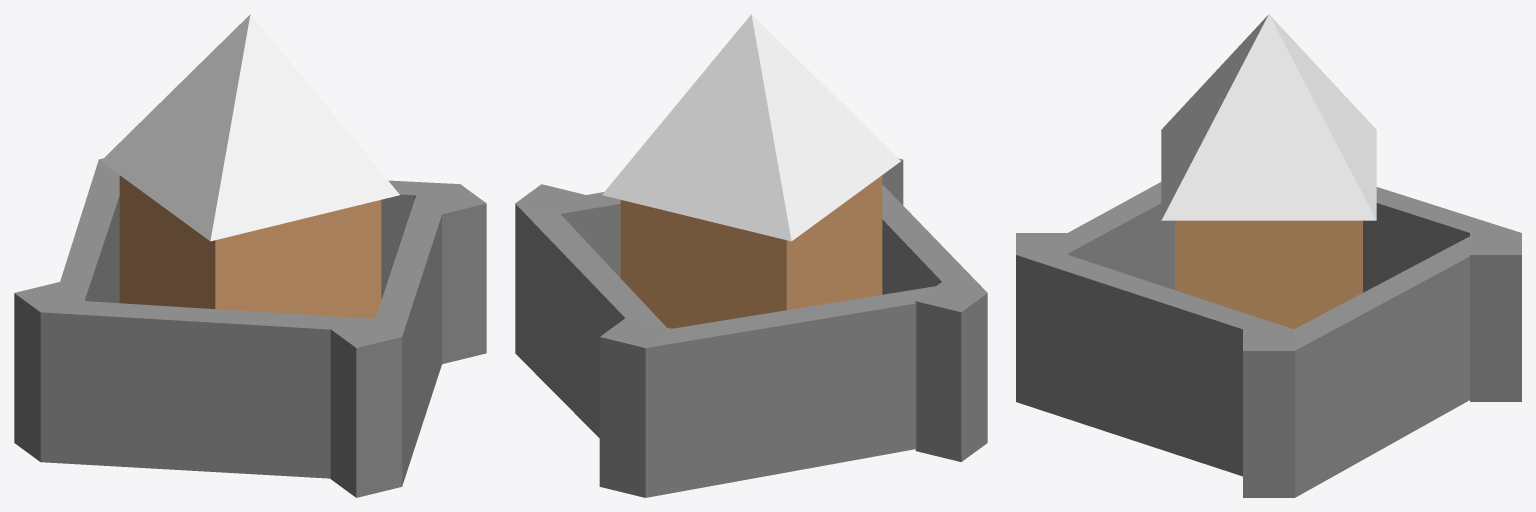
The model's file is City.fbx.
3 renders of one model, left to right at view 1: azimuth 30°, elevation 25°; view 2: azimuth 150°, elevation 25°; view 3: azimuth 270°, elevation 25°, orthographic.
Visible parts, largest first — view 1: Cube.004, Cone, Cube, Cube.001, Cube.003, Cube.002; view 2: Cube.002, Cone, Cube, Cube.003, Cube.004, Cube.001; view 3: Cube.001, Cube.003, Cone, Cube, Cube.002, Cube.004.
Part boxes in pixels (left/top/right/bottom): Cube.004: left=14, top=282, right=370, bottom=478; Cone: left=101, top=14, right=399, bottom=241; Cube: left=119, top=175, right=381, bottom=318; Cube.001: left=330, top=195, right=441, bottom=497; Cube.003: left=381, top=180, right=486, bottom=364; Cube.002: left=60, top=158, right=119, bottom=303; Cube.002: left=599, top=286, right=935, bottom=497; Cone: left=602, top=14, right=900, bottom=241; Cube: left=620, top=175, right=882, bottom=328; Cube.003: left=515, top=184, right=665, bottom=437; Cube.004: left=882, top=184, right=987, bottom=461; Cube.001: left=560, top=158, right=903, bottom=277; Cube.001: left=1016, top=233, right=1293, bottom=476; Cube.003: left=1243, top=236, right=1469, bottom=497; Cone: left=1161, top=14, right=1376, bottom=220; Cube: left=1175, top=220, right=1362, bottom=328; Cube.002: left=1363, top=187, right=1521, bottom=401; Cube.004: left=1068, top=182, right=1174, bottom=289.
Bounding box in the file's own units: 891 × 733 × 891.
